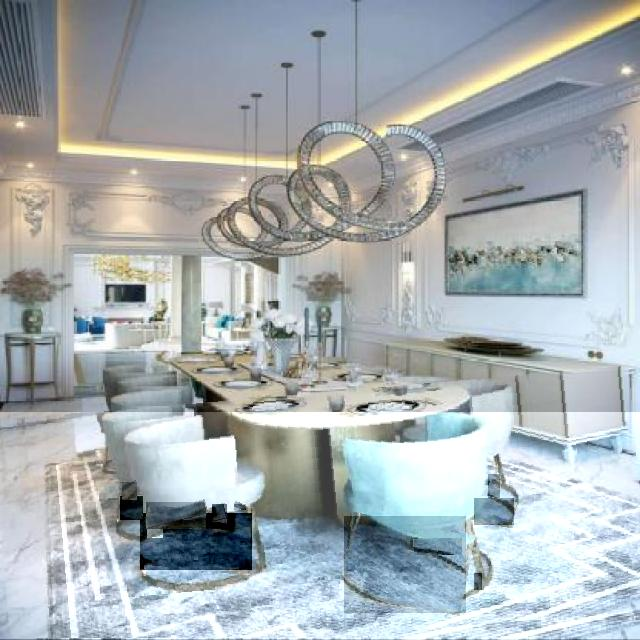floor: (0, 413, 640, 639), (344, 516, 466, 613), (141, 514, 252, 570), (147, 503, 206, 529), (475, 499, 514, 525), (414, 538, 462, 555), (121, 496, 143, 520), (488, 475, 500, 498), (213, 504, 227, 522), (123, 483, 137, 500), (147, 528, 163, 538), (475, 574, 482, 590), (234, 504, 246, 510)
